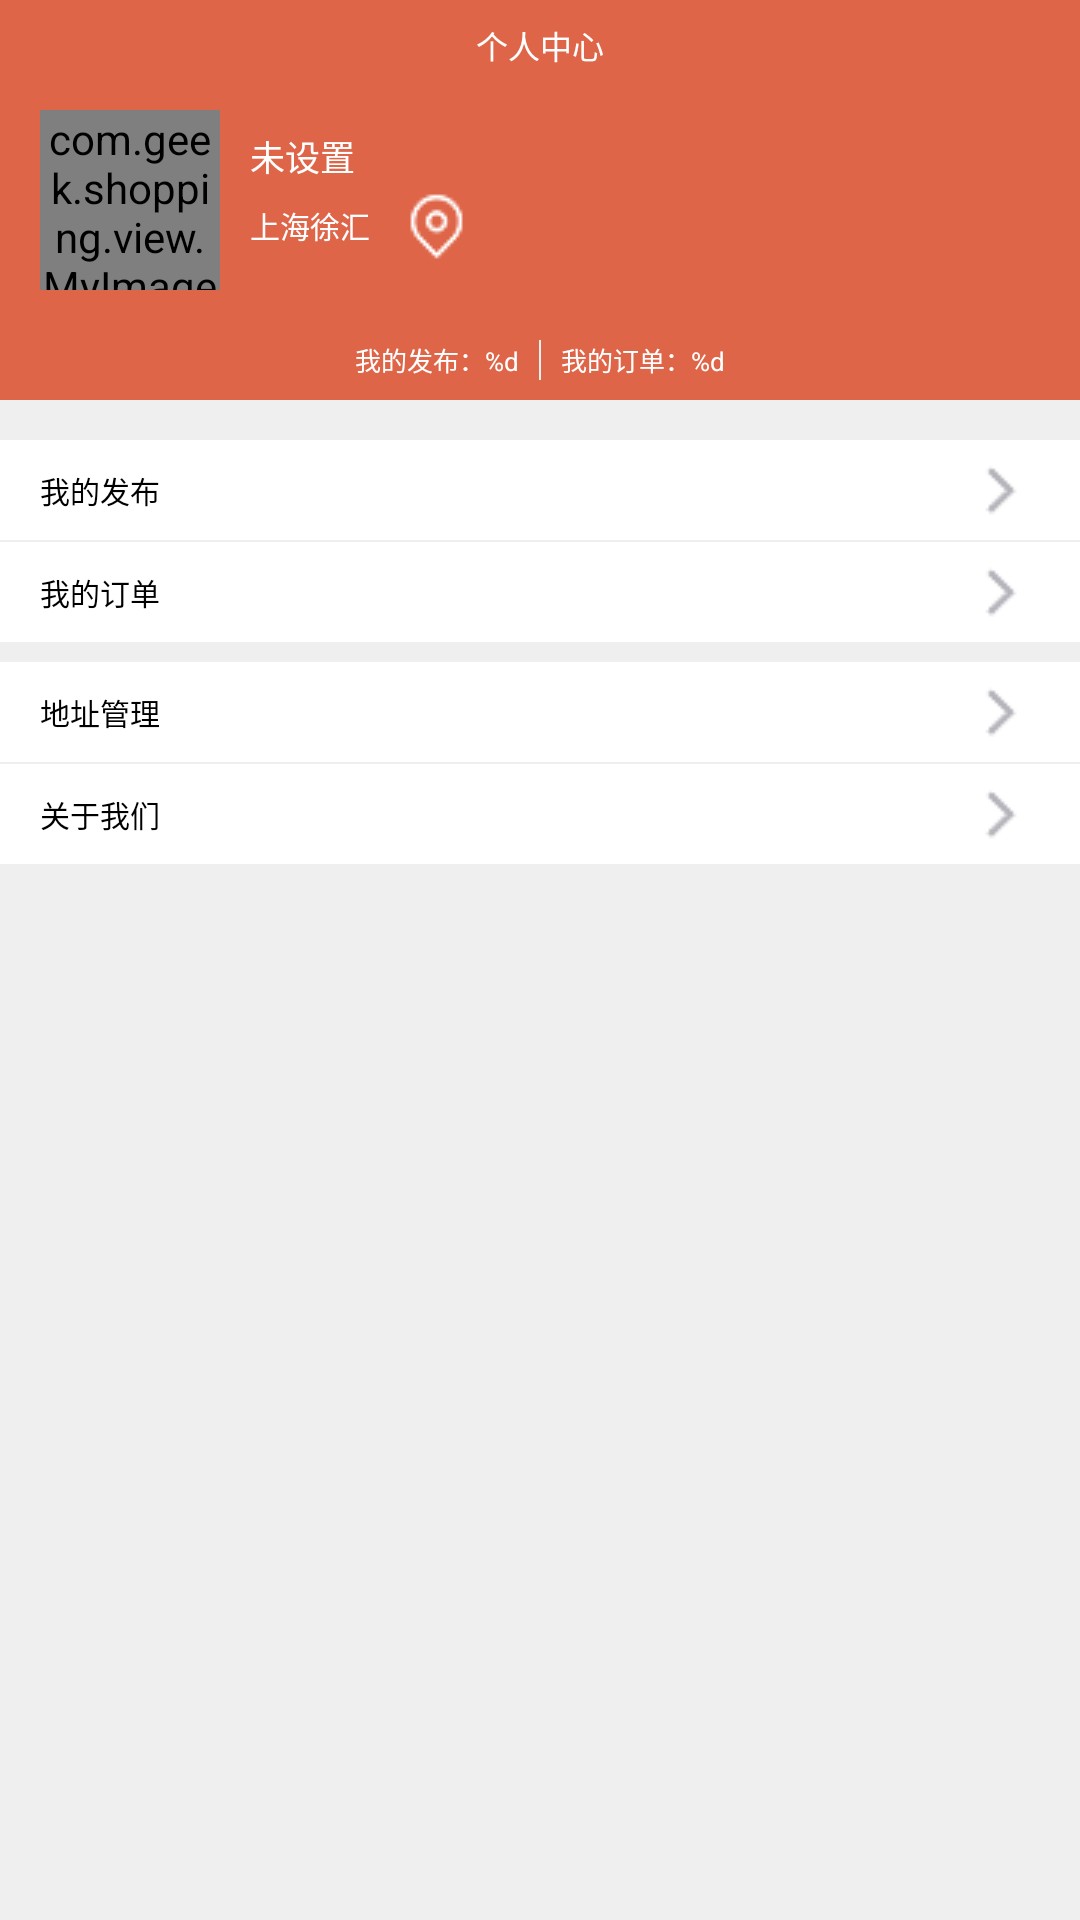

Icons on this 1080px×1920px Android screen, each with the point to tap as (x,y):
arrow right: (1001,490), (1001,592), (1001,712), (1001,814)
